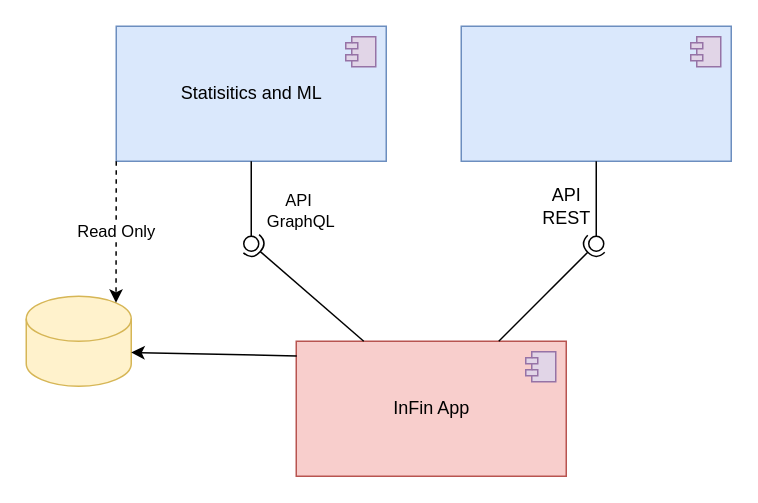
This 758x503 diagram has some shape labels left out. Here are the shapes that lost their labels. From the top down, the box of each, then its label:
(460, 25, 731, 161): Invoice Gathering
(25, 295, 131, 386): DB
